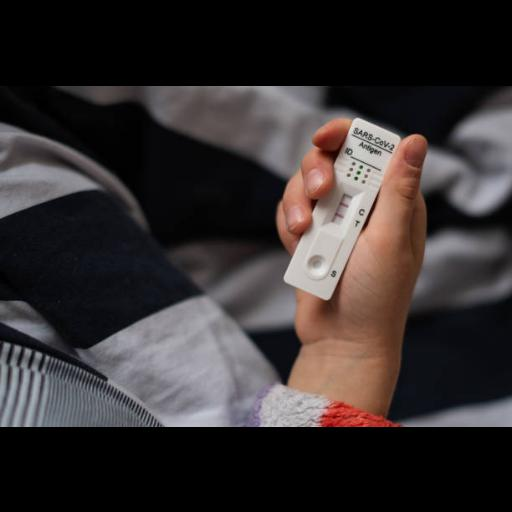Pos: (282, 116, 401, 302)
